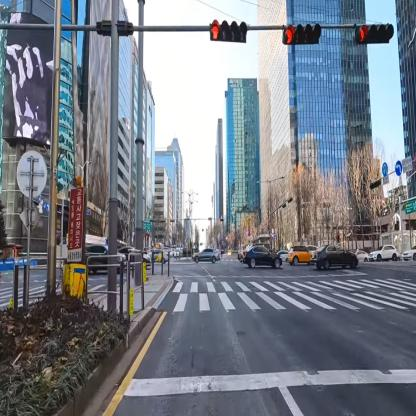red: (354, 23, 392, 45), (210, 23, 248, 43), (283, 27, 320, 46)
